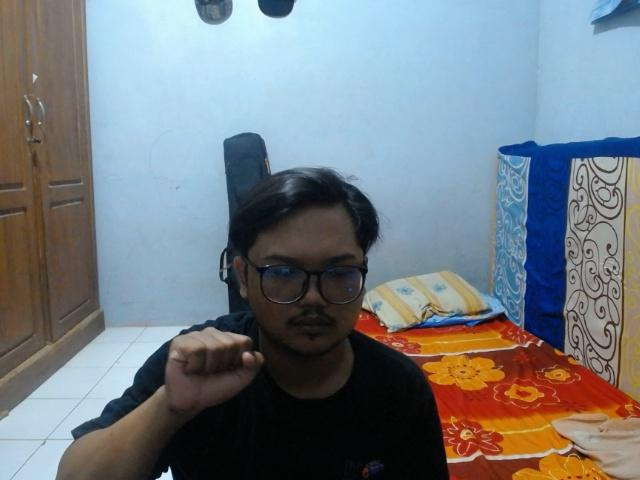Grab: (163, 322, 270, 423)
